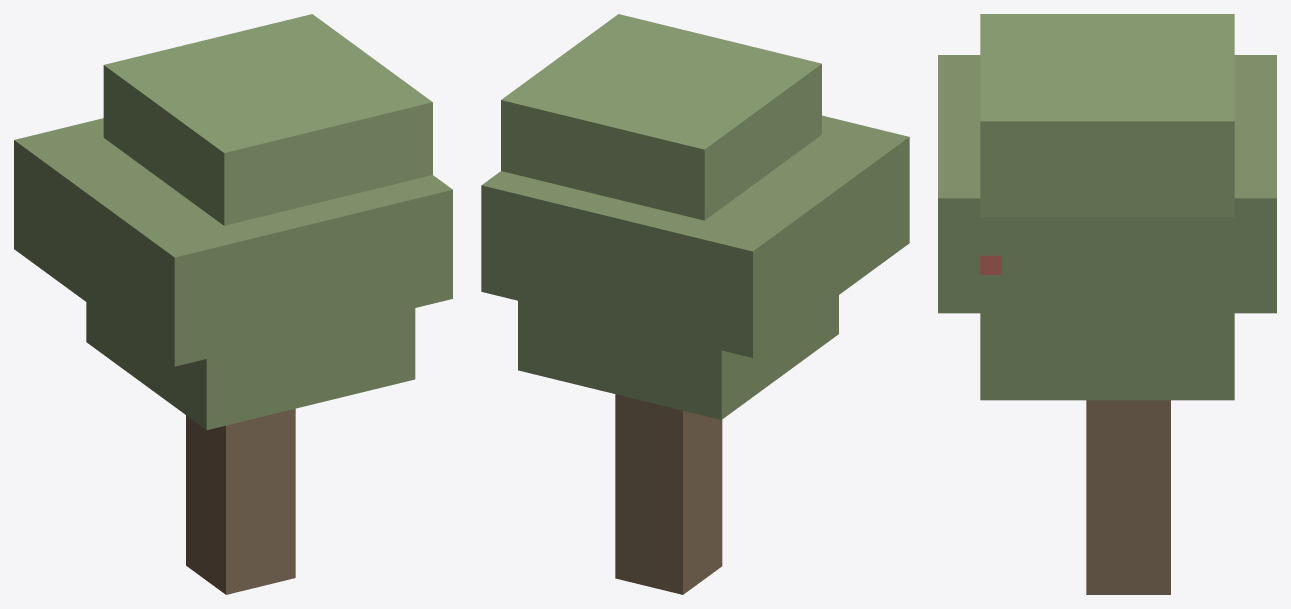
File: avellana_silvestre_01.glb
3 renders of one model, left to right at view 1: azimuth 30°, elevation 25°; view 2: azimuth 150°, elevation 25°; view 3: azimuth 270°, elevation 25°, orthographic. The views are drawn at different scales.
Parts seen in each view (by area): view 1: avellana_silvestre_01; view 2: avellana_silvestre_01; view 3: avellana_silvestre_01.
Boxes of the visible parts, bbox=[...] form: avellana_silvestre_01: bbox=[14, 14, 452, 594]; avellana_silvestre_01: bbox=[481, 14, 909, 594]; avellana_silvestre_01: bbox=[938, 14, 1276, 594].
Size of the model in its own units: 1.6 by 2.7 by 1.6.
